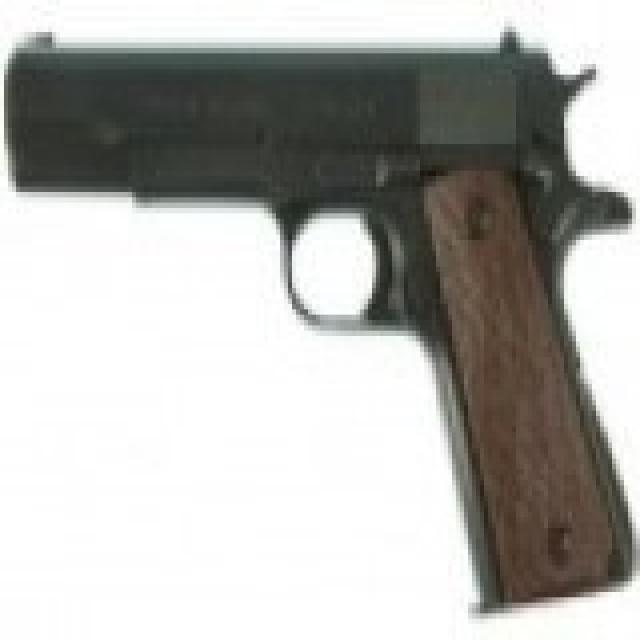Gun: (5, 20, 640, 598)
